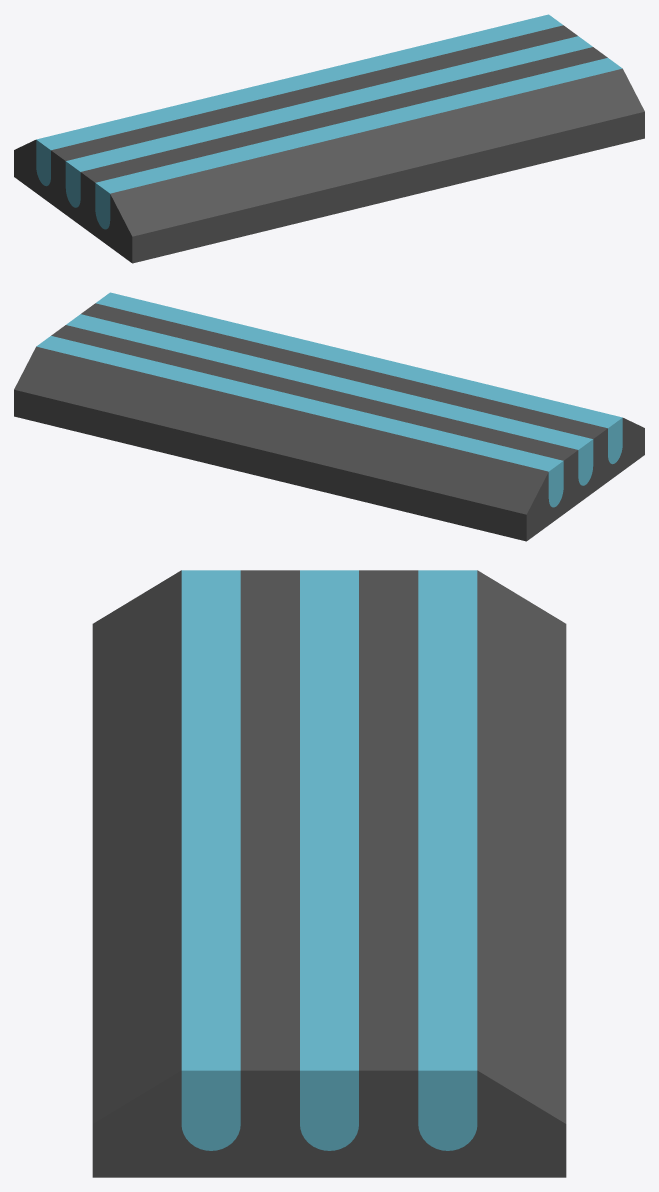
The model's file is Lamp_1(Horror_game) v4.fbx.
The picture shows the model from 3 angles, top to bottom: view 1: azimuth 30°, elevation 25°; view 2: azimuth 150°, elevation 25°; view 3: azimuth 270°, elevation 25°; orthographic projection. The views are drawn at different scales.
Parts seen in each view (by area): view 1: Body4, Body2, Body1, Body3; view 2: Body4, Body2, Body3, Body1; view 3: Body4, Body1, Body3, Body2.
Part boxes in pixels (x1,y1,x2,y2): Body4: [14, 25, 644, 263]; Body2: [65, 36, 592, 207]; Body1: [95, 58, 622, 229]; Body3: [36, 14, 562, 186]; Body4: [14, 303, 644, 541]; Body2: [66, 314, 593, 485]; Body3: [36, 336, 563, 507]; Body1: [96, 292, 622, 464]; Body4: [92, 570, 566, 1177]; Body1: [181, 570, 240, 1150]; Body3: [418, 570, 477, 1150]; Body2: [300, 570, 358, 1150].
Size of the model in its own units: 1000 by 100 by 400.
